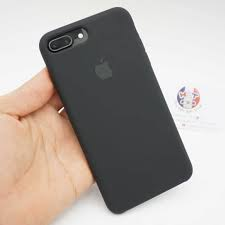iphone: (36, 4, 195, 215)
